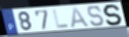7: (34, 9, 49, 30)
8: (18, 11, 34, 32)
A: (71, 7, 92, 29)
L: (52, 9, 70, 30)
S: (103, 3, 124, 26), (87, 5, 106, 28)
